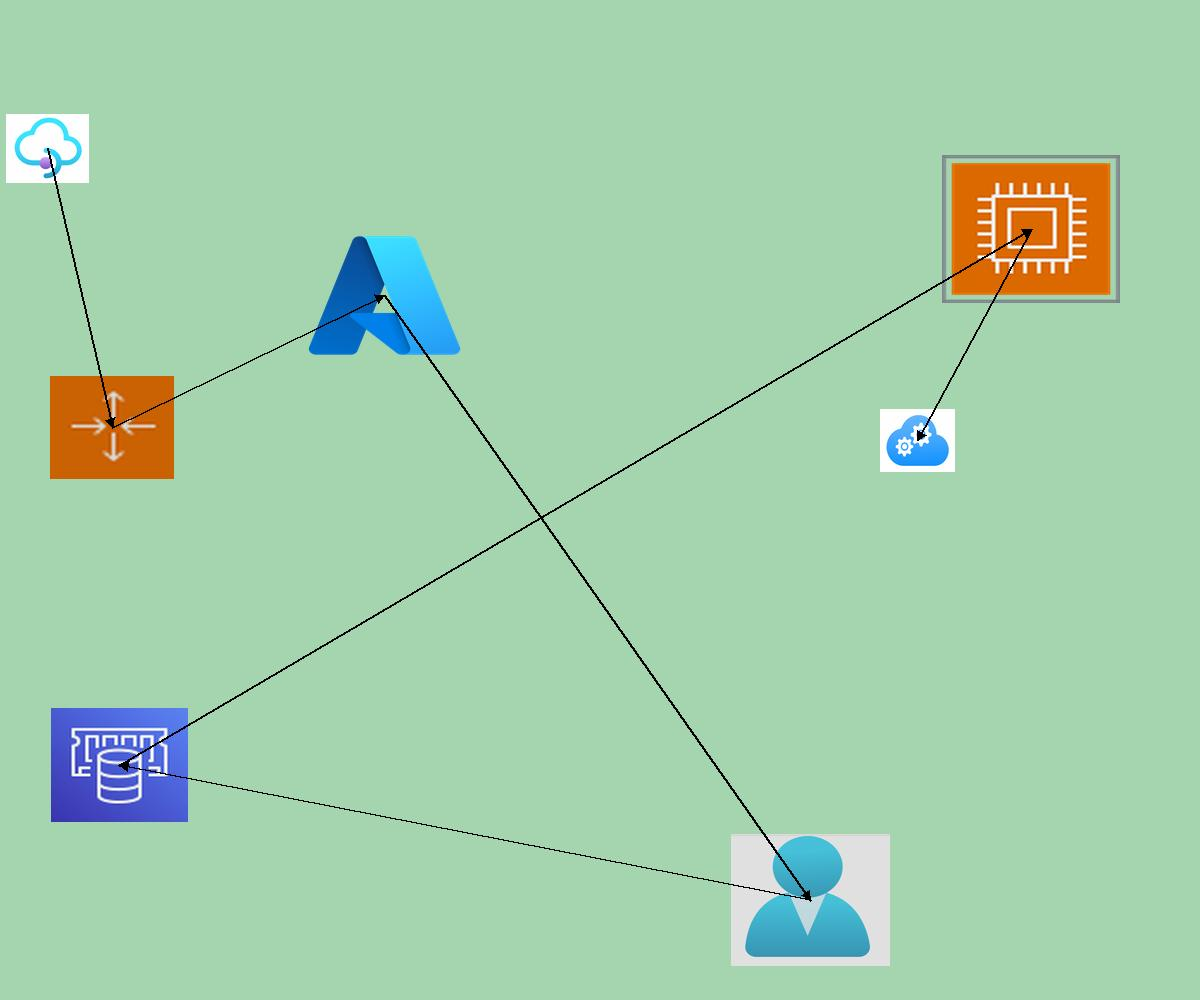AWS-Category_Compute: (942, 155, 1120, 303)
AWS-ElastiCache: (51, 708, 188, 822)
AWS-Scaling-group: (50, 376, 174, 479)
Azure_api_gateway: (6, 114, 89, 183)
Azure_cloud_services: (880, 409, 955, 472)
Azure_services: (302, 227, 467, 364)
Azure_users: (731, 834, 890, 966)
